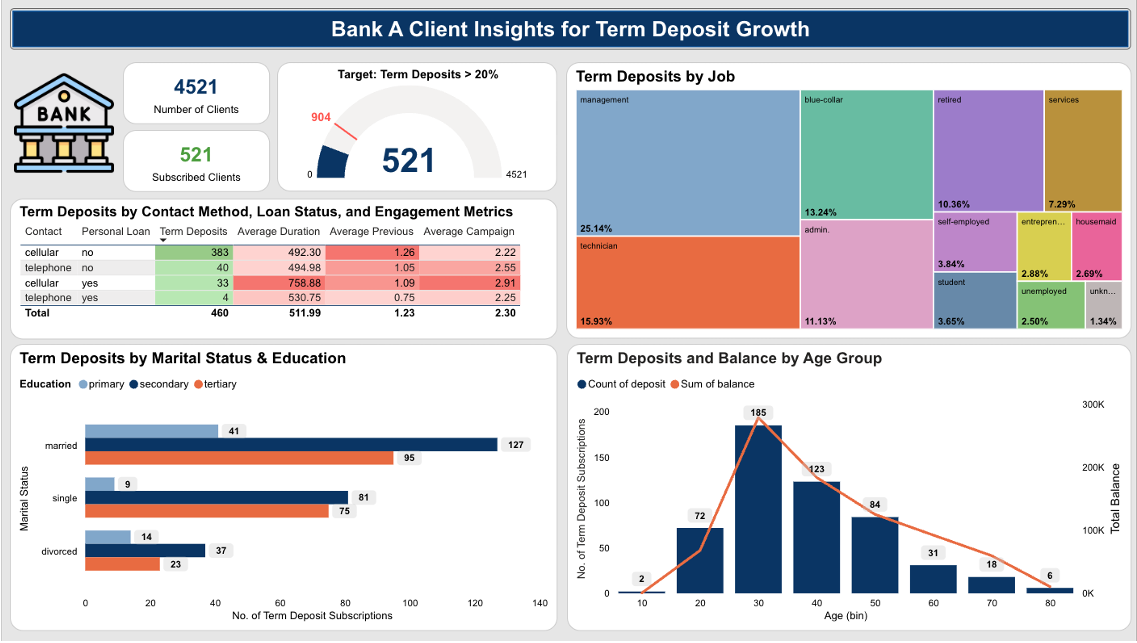

The page's visual inventory and layout, read from the dashboard file:
{"tool":"powerbi","page":{"name":"Dashboard","canvas":[1280,720],"ordinal":4},"visuals":[{"type":"lineStackedColumnComboChart","title":"Term Deposits and Balance by Age Group","fields":{"Category":["Sheet1.age (bins) 2"],"Y":["CountNonNull(Sheet1.deposit)"],"Y2":["Sum(Sheet1.balance)"]},"box":[637.4,387.7,637.4,324.5],"z":0},{"type":"clusteredBarChart","title":"Term Deposits by Marital Status & Education","fields":{"Category":["Sheet1.marital"],"Series":["Sheet1.education"],"Y":["CountNonNull(Sheet1.deposit)"]},"box":[9.5,388,617.6,324.3],"z":1000},{"type":"shape","box":[9.5,9.5,1265.4,47.3],"z":2000},{"type":"card","fields":{"Values":["CountNonNull(Sheet1.deposit)"]},"box":[136.2,70.2,165.7,70.2],"z":3000},{"type":"card","fields":{"Values":["CountNonNull(Sheet1.deposit)"]},"box":[136.2,146.4,165.7,70.2],"z":4000},{"type":"treemap","title":"Term Deposits by Job","fields":{"Details":["Sheet1.job"],"Values":["CountNonNull(Sheet1.deposit)"]},"box":[636.4,70.2,638.5,312.1],"z":5000},{"type":"tableEx","title":"Term Deposits by Contact Method, Loan Status, and Engagement Metrics","fields":{"Values":["Sheet1.contact","Sheet1.personal","Sheet1.deposit","Avg(Sheet1.duration)","Avg(Sheet1.previous)","Avg(Sheet1.campaign)"]},"box":[9.2,223.7,618.1,158.6],"z":6000},{"type":"gauge","title":"Target: Term Deposits > 20%","fields":{"MaxValue":["Sum(Sheet1 (2).Total)"],"TargetValue":["Sum(Sheet1 (2).Target)"],"Y":["Sum(Sheet1 (2).Val)"]},"box":[311.1,70.2,316.2,146.4],"z":7000}]}

Visuals, with their boxes in screenshot pixels (x1, y1, x2, y2), scaled from the page's 1280x720 canvas onto the 1137x643 screenshot:
"Term Deposits and Balance by Age Group" lineStackedColumnComboChart: Rect(566, 346, 1132, 636)
"Term Deposits by Marital Status & Education" clusteredBarChart: Rect(8, 347, 557, 636)
shape: Rect(8, 8, 1132, 51)
card - CountNonNull(Sheet1.deposit): Rect(121, 63, 268, 125)
card - CountNonNull(Sheet1.deposit): Rect(121, 131, 268, 193)
"Term Deposits by Job" treemap: Rect(565, 63, 1132, 341)
"Term Deposits by Contact Method, Loan Status, and Engagement Metrics" tableEx: Rect(8, 200, 557, 341)
"Target: Term Deposits > 20%" gauge: Rect(276, 63, 557, 193)
